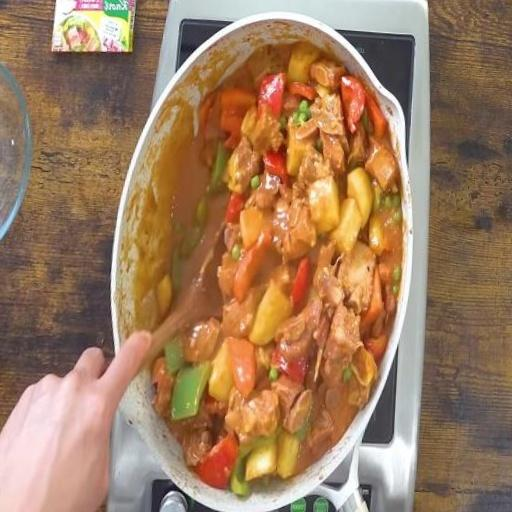pork caldereta: (160, 31, 400, 492)
